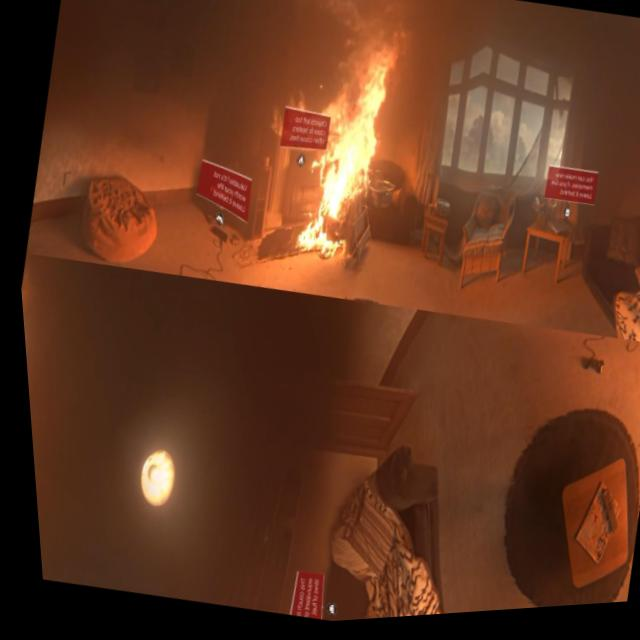fire: (276, 28, 417, 276)
